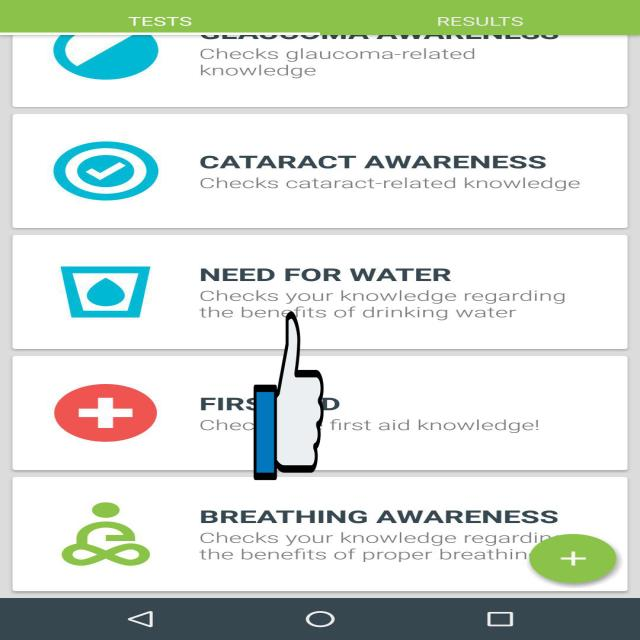privacy zuckering: (254, 307, 324, 483)
